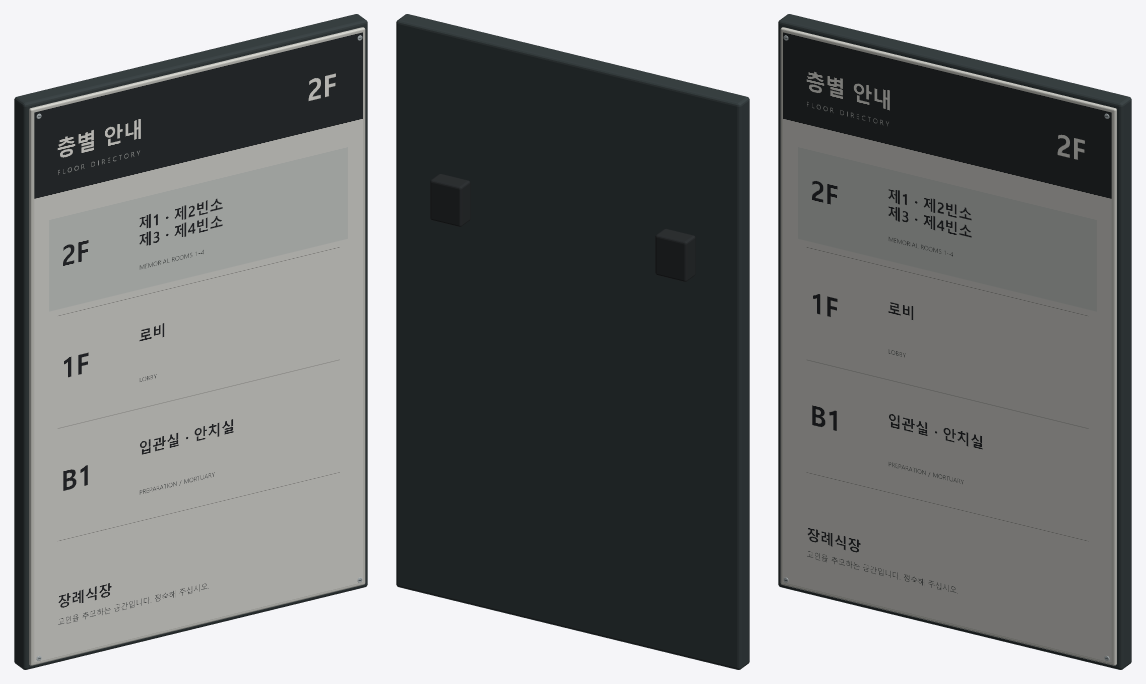
File: Floor_Directory_2F.fbx
3 renders of one model, left to right at view 1: azimuth 30°, elevation 25°; view 2: azimuth 150°, elevation 25°; view 3: azimuth 330°, elevation 25°, orthographic.
Visible parts, largest first — view 1: Floor_Directory_2F; view 2: Floor_Directory_2F; view 3: Floor_Directory_2F.
Boxes of the visible parts, box(x1,y1,x2,y2) form: Floor_Directory_2F: box(14, 14, 367, 669); Floor_Directory_2F: box(396, 14, 749, 669); Floor_Directory_2F: box(778, 14, 1131, 669).
Size of the model in its own units: 0.49 by 0.77 by 0.0593.
5 materials, 1 textured.
